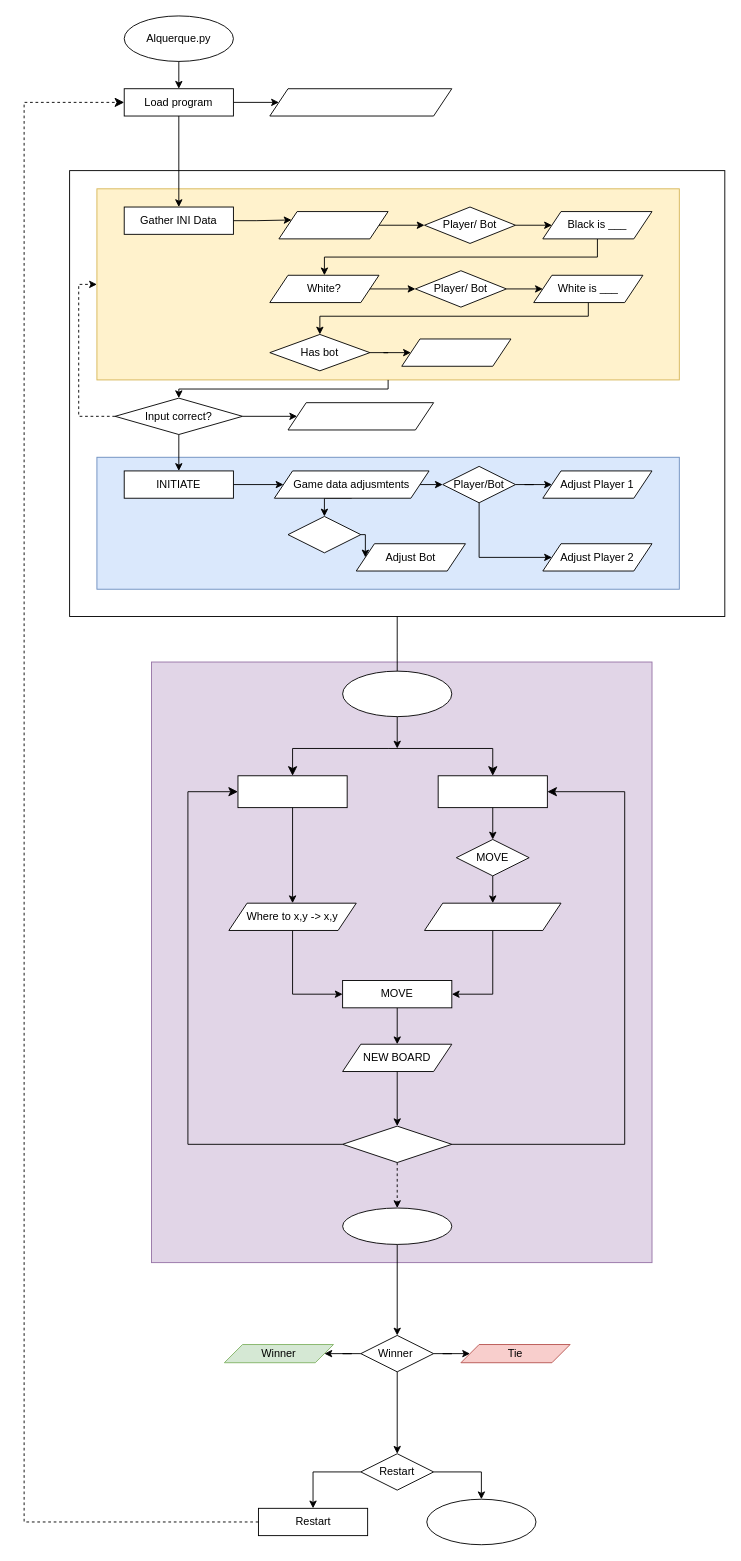
This 741x1561 diagram has some shape labels left out. Here are the shapes that lost their labels. From the top down, the centre of each, then its label:
At point (360, 102): "Initial module imports".
At point (333, 225): "Black?".
At point (456, 352): "Bot difficulty".
At point (360, 416): "Show setup".
At point (324, 534): "Difficulty".
At point (397, 693): "Game".
At point (292, 791): "Human Play".
At point (492, 791): "NPC Play".
At point (492, 916): "Informerer om træk".
At point (397, 1144): "Game state".
At point (397, 1225): "Game Over".
At point (481, 1521): "Abort Program".
